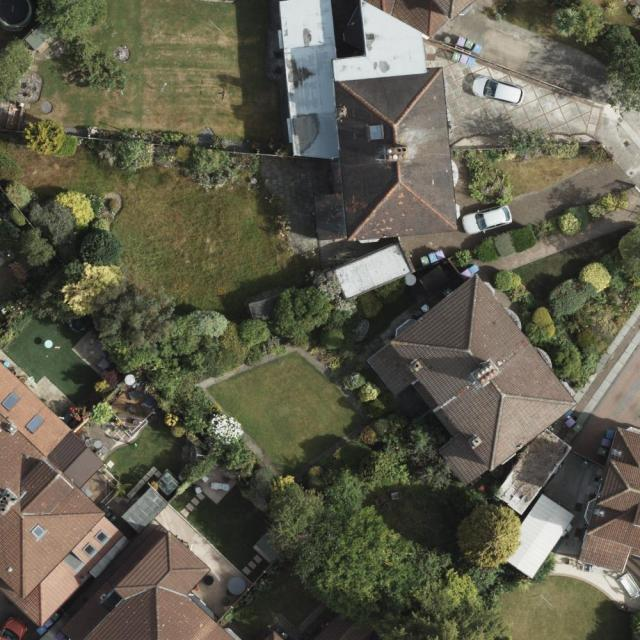roof: (368, 271, 577, 517), (279, 0, 475, 243), (0, 361, 132, 628), (82, 530, 237, 640), (581, 426, 640, 573)
skylight: (93, 529, 109, 545), (370, 124, 384, 141), (82, 544, 97, 558), (31, 524, 46, 538)
solar: (25, 414, 45, 435), (2, 392, 20, 410)
